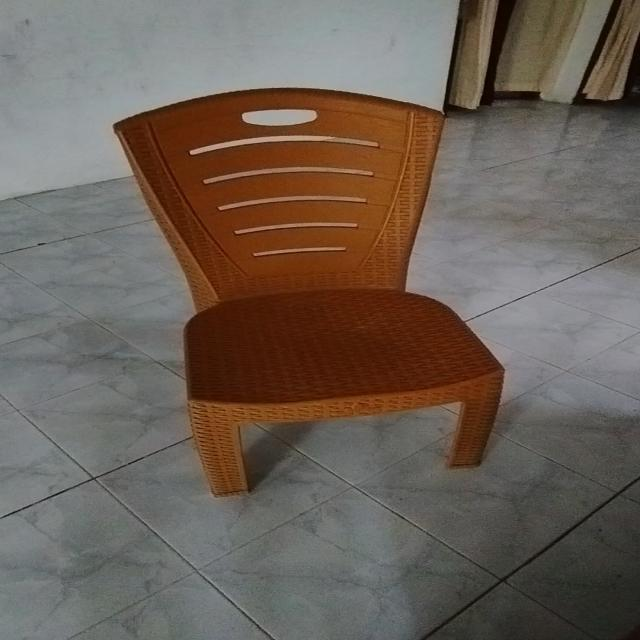chair: (106, 84, 509, 498)
